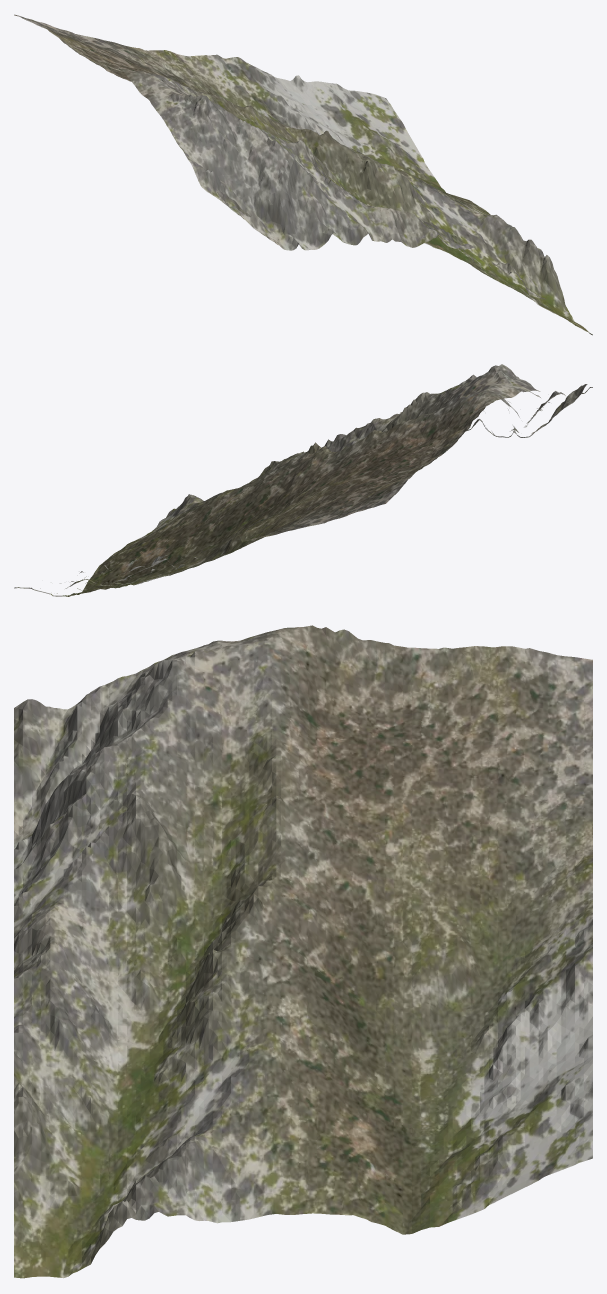
3 views of the same model, one above another, from view 1: azimuth 30°, elevation 25°; view 2: azimuth 150°, elevation 25°; view 3: azimuth 270°, elevation 25° (orthographic). The views are drawn at different scales.
Bounding box in the file's own units: 500 × 367 × 481.
1 material, 1 textured.
